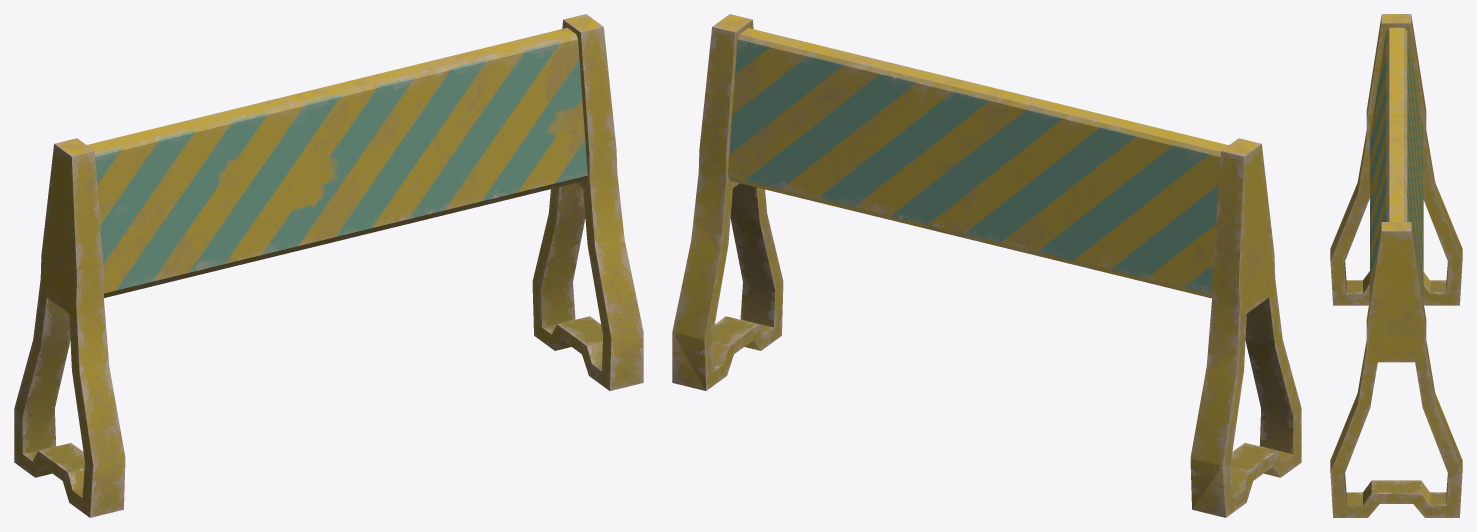
File: Barricade_A.fbx
3 renders of one model, left to right at view 1: azimuth 30°, elevation 25°; view 2: azimuth 150°, elevation 25°; view 3: azimuth 270°, elevation 25°, orthographic. The views are drawn at different scales.
Visible parts, largest first — view 1: Object020; view 2: Object020; view 3: Object020.
Part boxes in pixels (box(x1,y1,x2,y2)): Object020: box(14, 14, 643, 517); Object020: box(672, 14, 1301, 517); Object020: box(1330, 14, 1462, 517).
Size of the model in its own units: 245 by 143 by 60.49.
